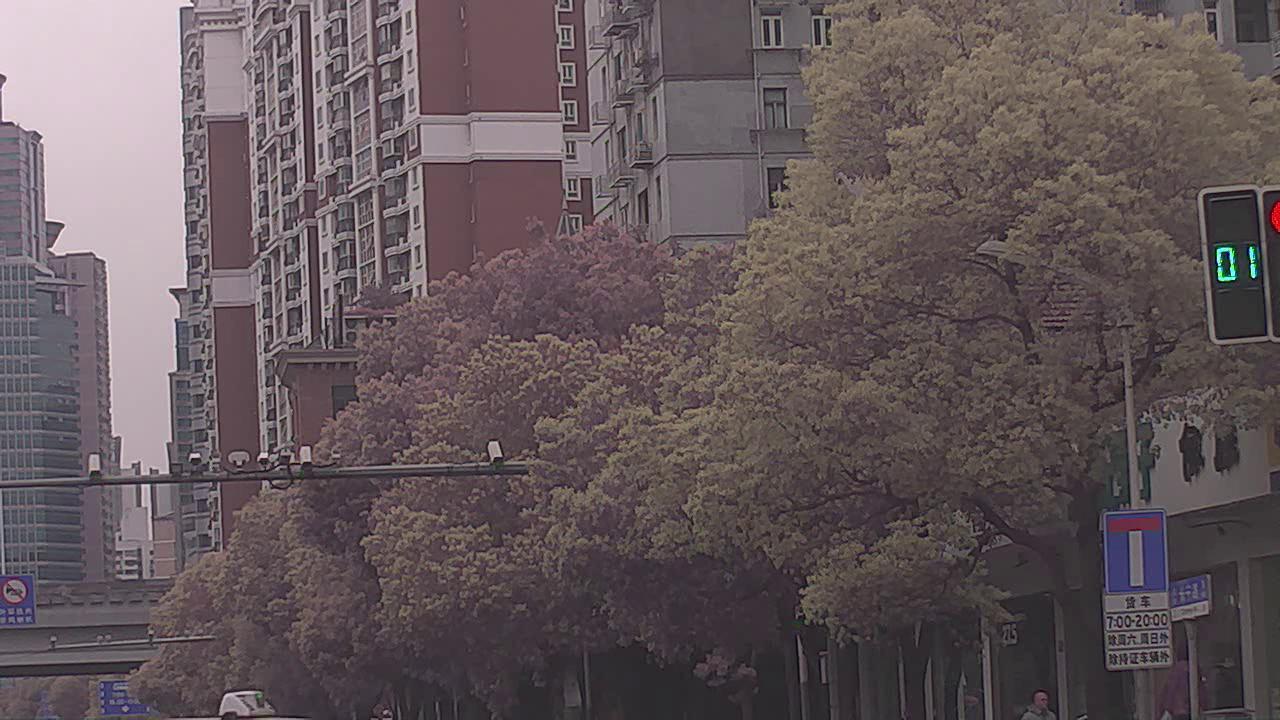traffic_light: (1205, 190, 1271, 338)
